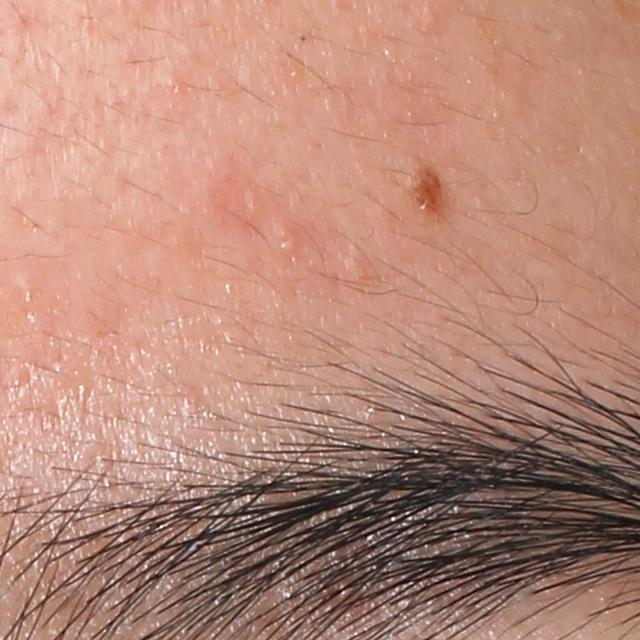comedo: (273, 221, 303, 257)
nevus: (405, 155, 446, 216)
